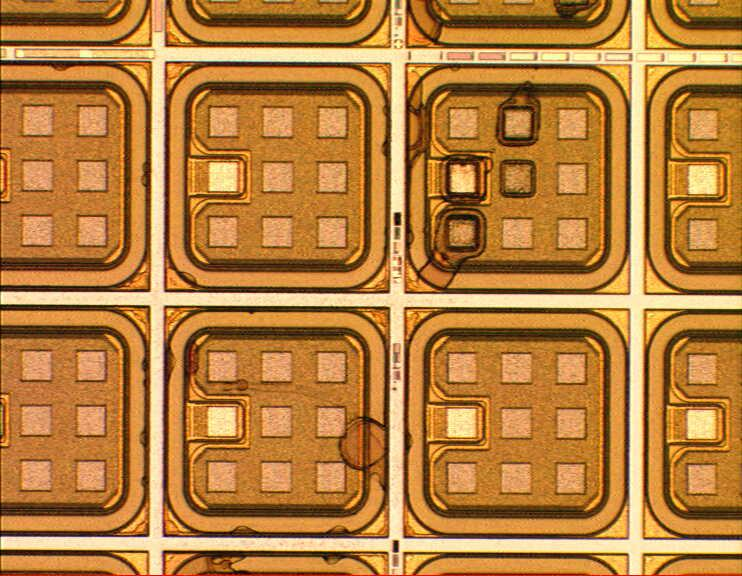SEZ BURNT: (183, 1, 611, 576)
